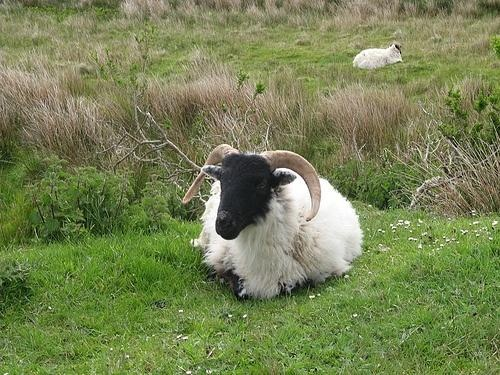sheep: (180, 140, 368, 307), (348, 43, 412, 71)
